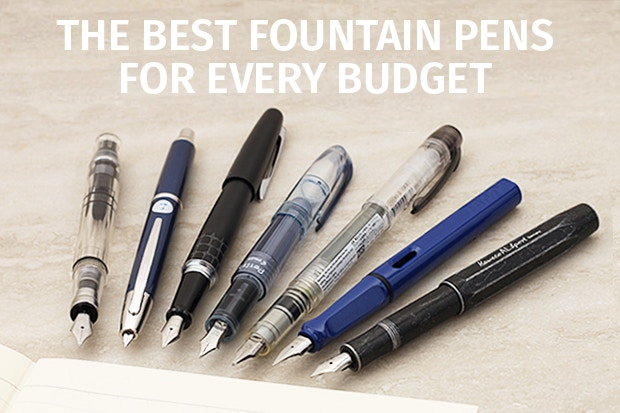Nonrec_Other: (252, 105, 610, 378), (156, 97, 299, 354), (116, 112, 210, 351), (71, 114, 108, 351)
